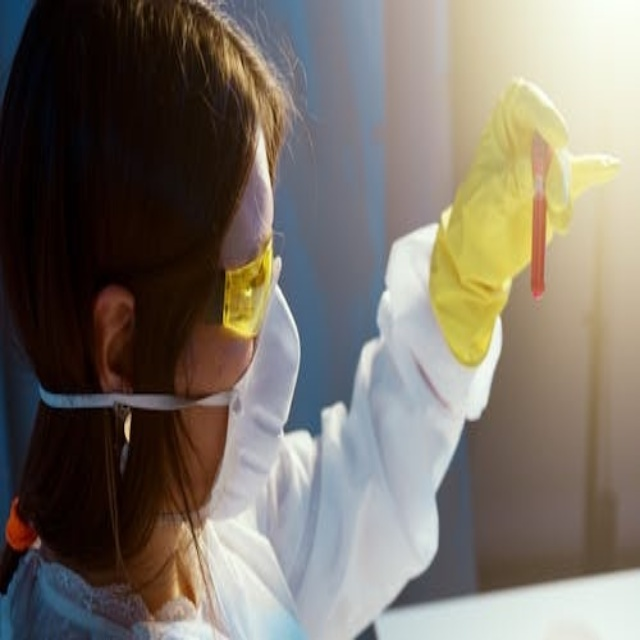Gafas: (102, 227, 275, 348)
Guantes: (428, 73, 624, 365)
Mascara: (201, 268, 300, 532)
